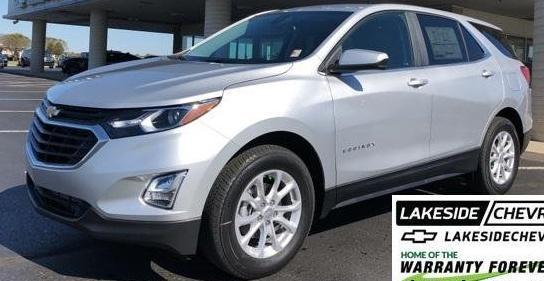SUV: (27, 5, 533, 279)
